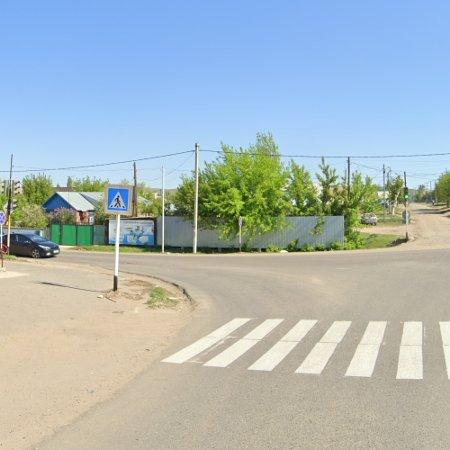crosswalks: (160, 316, 450, 386)
